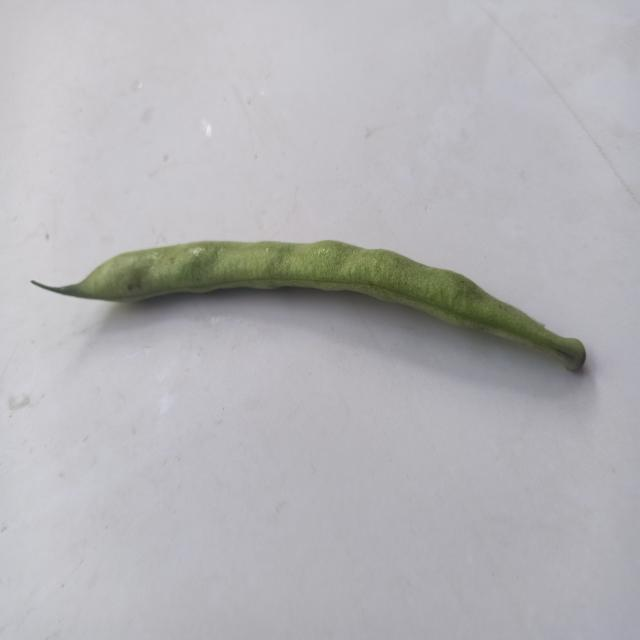Beans: (13, 224, 600, 394)
